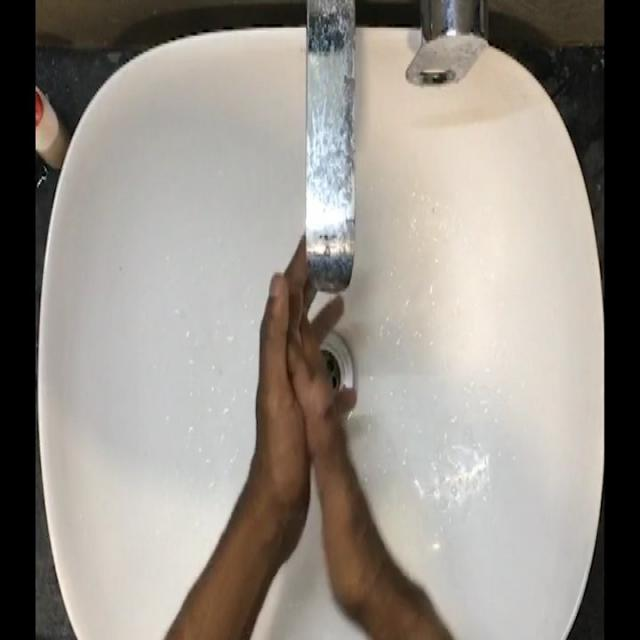step_3: (233, 200, 380, 517)
